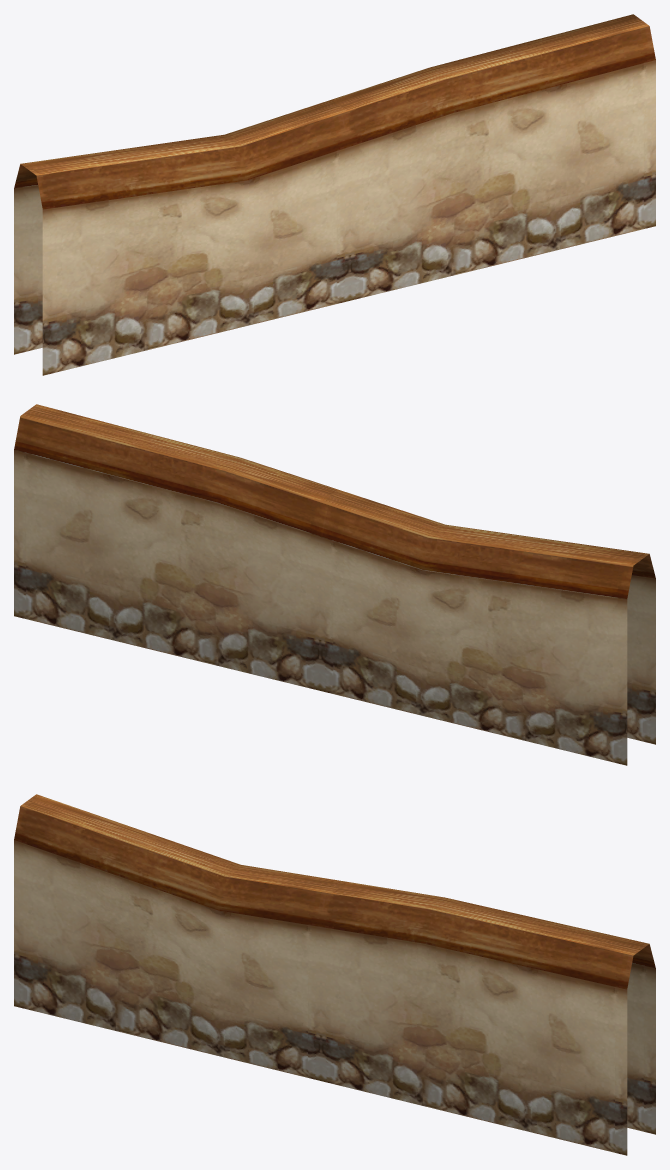
Rendered from obj_macoprstwa04.glb.
3 views of the same model, one above another, from view 1: azimuth 30°, elevation 25°; view 2: azimuth 150°, elevation 25°; view 3: azimuth 330°, elevation 25° (orthographic).
Parts seen in each view (by area): view 1: part_0; view 2: part_0; view 3: part_0.
Boxes of the visible parts, left/top/right/bottom form: part_0: left=14, top=14, right=655, bottom=375; part_0: left=14, top=404, right=655, bottom=765; part_0: left=14, top=794, right=655, bottom=1155.
Bounding box in the file's own units: 8 × 2.44 × 0.6503.
1 material, 1 textured.
